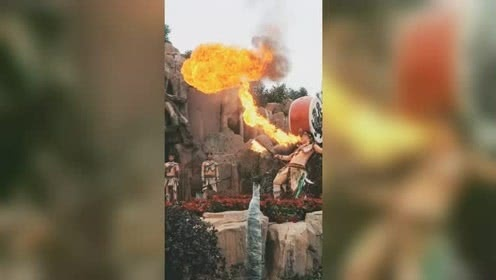fire: (178, 35, 300, 147), (247, 138, 265, 153)
